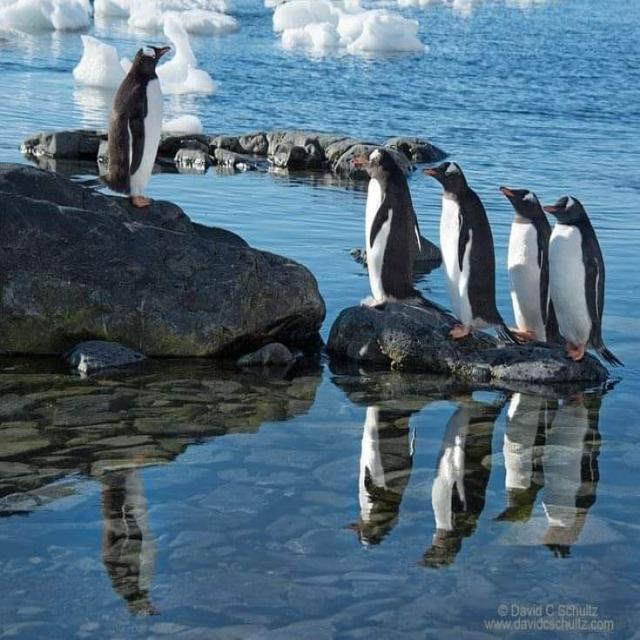Penguins: (424, 154, 510, 346), (344, 139, 423, 307), (542, 187, 610, 363), (111, 33, 175, 207), (496, 166, 556, 351)
